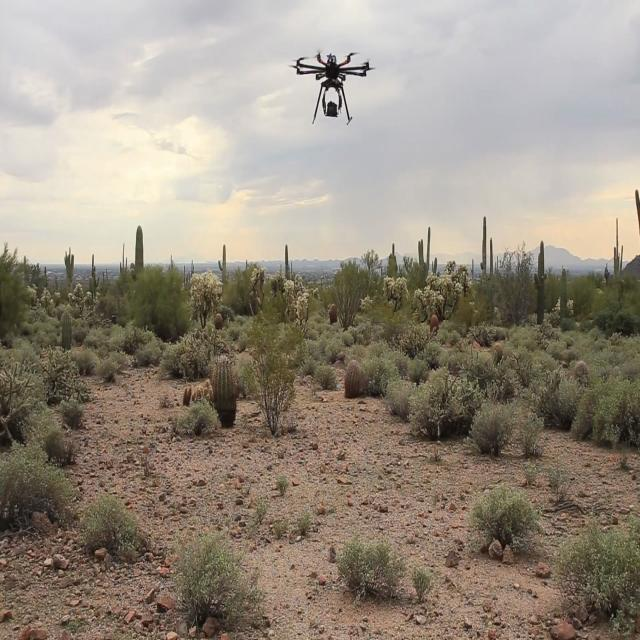drone: (290, 36, 380, 145)
